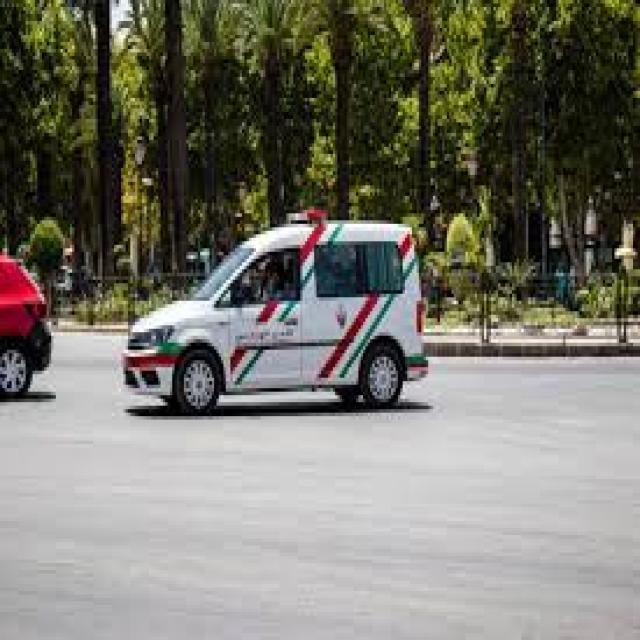Police car: (118, 204, 434, 424)
